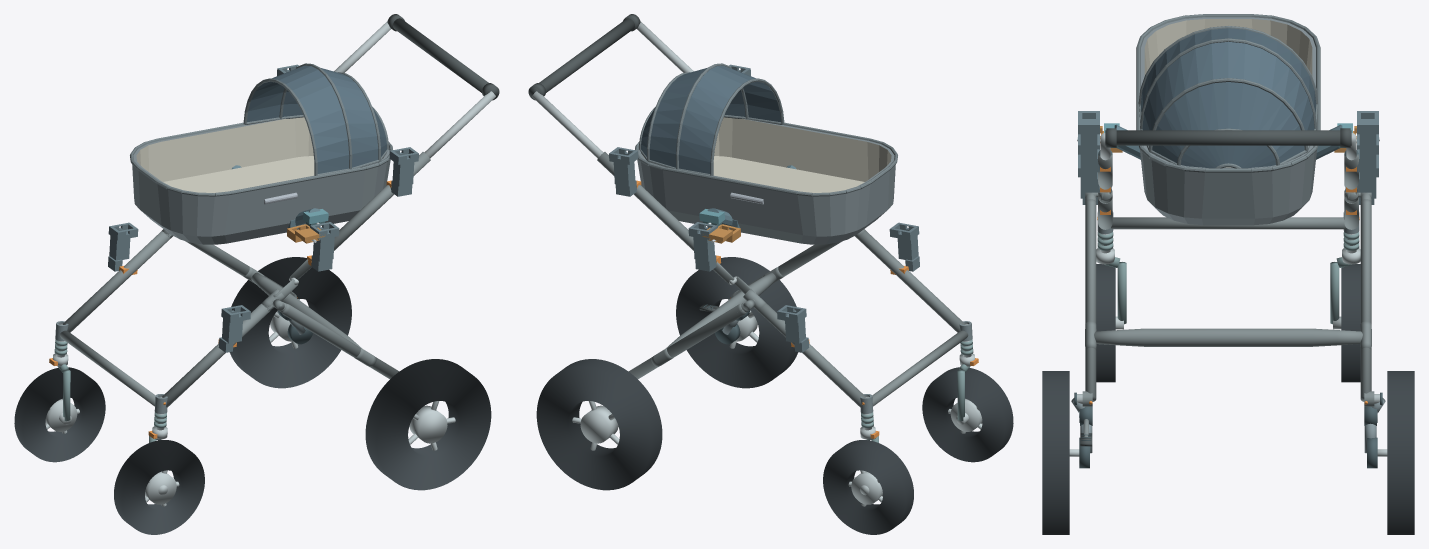
The model's file is S06_w650_state1_wheel_L.glb.
The picture shows the model from 3 angles, left to right: view 1: azimuth 30°, elevation 25°; view 2: azimuth 150°, elevation 25°; view 3: azimuth 270°, elevation 25°; orthographic projection. The views are drawn at different scales.
Parts seen in each view (by area): view 1: S06_Cabin, RL_tire.008, RR_tire.008, FL_tire.008, FR_tire.008, main_lower_1.009, round_handle.008, V46_rear_leg_-1.009, main_lower_-1.009, front_fixed_round_tube.008, main_upper_-1.009, Universal_Cabin_Receiver_H_-1 (+11 smaller); view 2: S06_Cabin, RR_tire.008, RL_tire.008, FR_tire.008, FL_tire.008, main_lower_-1.009, round_handle.008, V46_rear_leg_1.009, main_lower_1.009, front_fixed_round_tube.008, main_upper_1.009, Universal_Cabin_Receiver_H_1 (+11 smaller); view 3: S06_Cabin, V46_rearbar.009, RL_tire.008, RR_tire.008, round_handle.008, front_fixed_round_tube.008, FL_tire.008, FR_tire.008, V46_rear_leg_1.009, V46_rear_leg_-1.009, Universal_Cabin_Receiver_H_1, Universal_Cabin_Receiver_H_-1 (+5 smaller).
Boxes of the visible parts, <box> form: S06_Cabin: <box>130,63,392,244</box>; RL_tire.008: <box>365,359,491,490</box>; RR_tire.008: <box>229,257,351,388</box>; FL_tire.008: <box>114,440,204,534</box>; FR_tire.008: <box>14,367,105,462</box>; main_lower_1.009: <box>62,231,171,332</box>; round_handle.008: <box>393,18,498,98</box>; V46_rear_leg_-1.009: <box>281,303,399,378</box>; main_lower_-1.009: <box>162,304,272,407</box>; front_fixed_round_tube.008: <box>59,330,155,406</box>; main_upper_-1.009: <box>311,152,430,256</box>; Universal_Cabin_Receiver_H_-1: <box>389,147,418,196</box>; S06_Cabin: <box>635,63,897,244</box>; RR_tire.008: <box>536,359,662,490</box>; RL_tire.008: <box>676,257,798,388</box>; FR_tire.008: <box>823,440,913,534</box>; FL_tire.008: <box>922,367,1013,462</box>; main_lower_-1.009: <box>856,231,965,332</box>; round_handle.008: <box>529,18,634,98</box>; V46_rear_leg_1.009: <box>628,303,746,378</box>; main_lower_1.009: <box>755,304,865,407</box>; front_fixed_round_tube.008: <box>872,330,968,406</box>; main_upper_1.009: <box>597,152,716,256</box>; Universal_Cabin_Receiver_H_1: <box>609,147,638,196</box>; S06_Cabin: <box>1136,14,1320,225</box>; V46_rearbar.009: <box>1094,328,1362,346</box>; RL_tire.008: <box>1042,371,1069,534</box>; RR_tire.008: <box>1387,371,1414,534</box>; round_handle.008: <box>1105,130,1351,145</box>; front_fixed_round_tube.008: <box>1111,217,1345,229</box>; FL_tire.008: <box>1096,264,1115,382</box>; FR_tire.008: <box>1341,264,1360,382</box>; V46_rear_leg_1.009: <box>1360,199,1371,401</box>; V46_rear_leg_-1.009: <box>1085,199,1096,401</box>; Universal_Cabin_Receiver_H_1: <box>1357,111,1378,172</box>; Universal_Cabin_Receiver_H_-1: <box>1078,111,1099,172</box>.
Size of the model in its own units: 1.2 by 1.13 by 0.8171.
